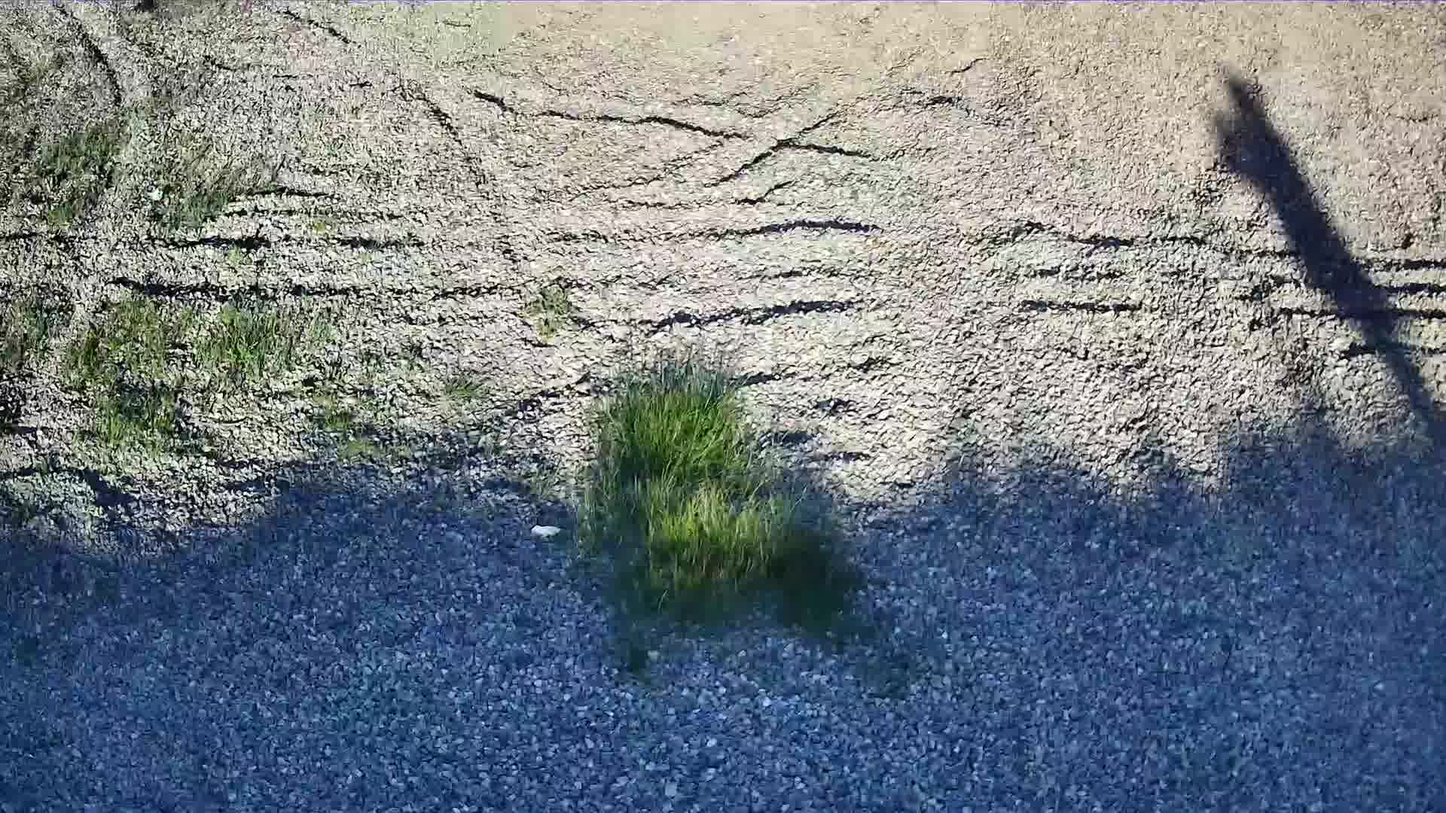Target: (531, 522, 561, 536)
